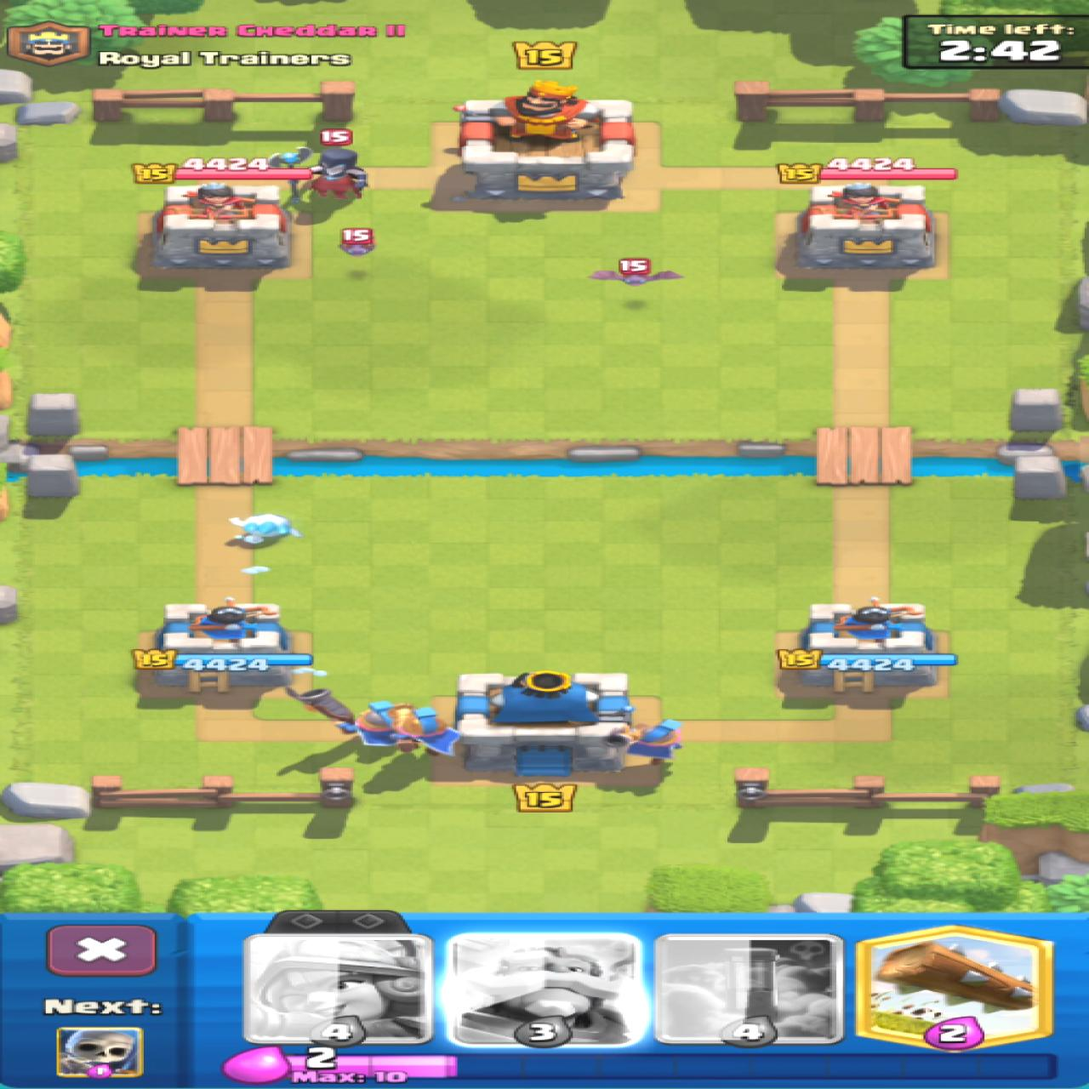Enemy-Bat: (590, 258, 682, 285), (340, 230, 372, 255)
Enemy-KingTower: (457, 80, 634, 198)
Enemy-NightWitch: (287, 148, 366, 201), (270, 147, 311, 167)
Enemy-PrincessTower: (797, 183, 934, 276), (150, 181, 290, 271)
